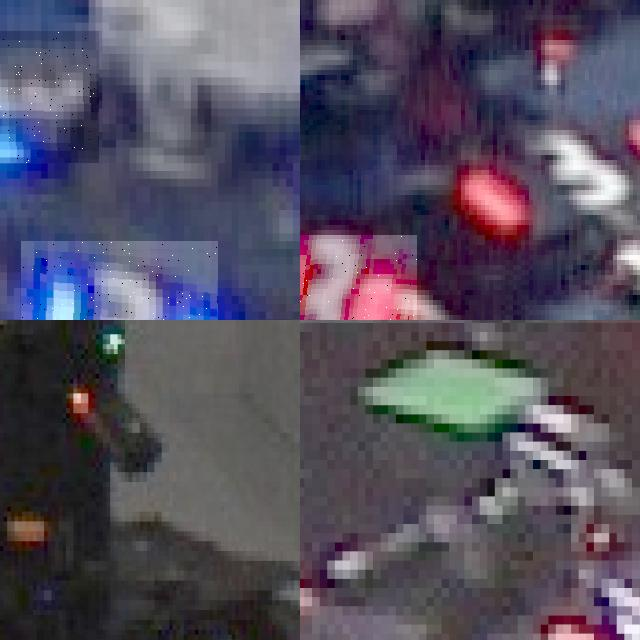B3: (20, 241, 218, 320), (0, 30, 99, 163)
R3: (300, 235, 417, 320)
